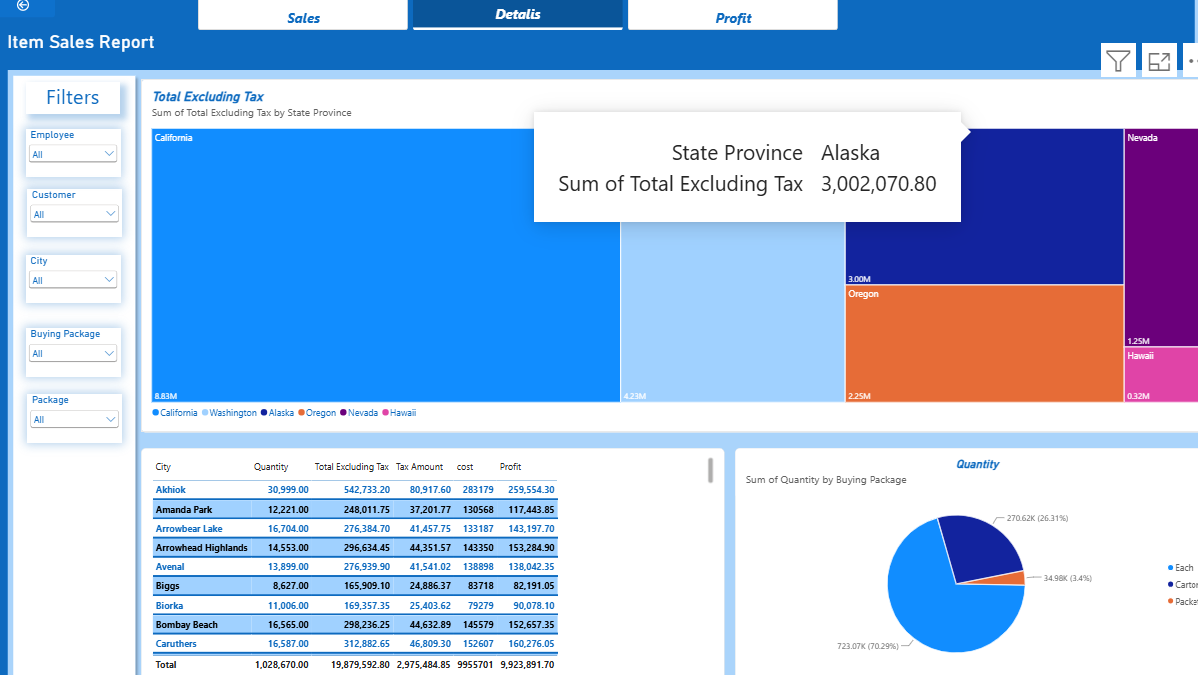

Layout of this report page (visuals, bound fields, positions):
{"tool":"powerbi","page":{"name":"Detalis","canvas":[1920,1080],"ordinal":1},"visuals":[{"type":"shape","box":[0,0,1882.6,121.9],"z":0},{"type":"shape","box":[0,121.9,25.8,958.9],"z":1000},{"type":"shape","box":[25.8,121,208.7,958.9],"z":2000},{"type":"textbox","box":[25.8,61,513.4,39.9],"z":3000},{"type":"textbox","box":[53.9,140.7,147.7,49.2],"z":4000},{"type":"slicer","fields":{"Values":["DimEmployee.Employee"]},"box":[53.2,212.9,148.4,75.8],"z":5000},{"type":"slicer","fields":{"Values":["DimCustomer.Customer"]},"box":[56.5,308.1,148.4,75.8],"z":6000},{"type":"slicer","fields":{"Values":["DimCity.City"]},"box":[53.2,411.3,148.4,75.8],"z":7000},{"type":"slicer","fields":{"Values":["DimStockltm.Buying Package"]},"box":[53.2,524.2,148.4,75.8],"z":8000},{"type":"slicer","fields":{"Values":["FactSale.Package"]},"box":[56.5,629,148.4,75.8],"z":9000},{"type":"pageNavigator","box":[322.8,10.5,1000,50],"z":10000},{"type":"actionButton","box":[0,0,100,40],"z":11000},{"type":"tableEx","fields":{"Values":["DimCity.City","Sum(FactSale.Quantity)","Sum(FactSale.Total Excluding Tax)","Sum(FactSale.Tax Amount)","Sum(FactSale.cost)","Sum(FactSale.Profit)"]},"box":[235.1,712.3,912.3,368.4],"z":12000},{"type":"treemap","title":"Total Excluding Tax","fields":{"Values":["Sum(FactSale.Total Excluding Tax)"],"Group":["DimCity.State Province"]},"box":[235.1,135.1,1684.2,552.6],"z":13000},{"type":"pieChart","title":" Quantity","fields":{"Category":["DimStockltm.Buying Package"],"Y":["Sum(FactSale.Quantity)"]},"box":[1163.2,712.3,756.1,368.4],"z":14000}]}

Visuals, with their boxes on the page's 1920x1080 design canvas (x1, y1, x2, y2). These are canvas units, not pixel positions in the 1198x675 screenshot, which may show the page scaled, cropped or inside an application window:
shape: [0, 0, 1883, 122]
shape: [0, 122, 26, 1081]
shape: [26, 121, 234, 1080]
textbox: [26, 61, 539, 101]
textbox: [54, 141, 202, 190]
slicer - DimEmployee.Employee: [53, 213, 202, 289]
slicer - DimCustomer.Customer: [56, 308, 205, 384]
slicer - DimCity.City: [53, 411, 202, 487]
slicer - DimStockltm.Buying Package: [53, 524, 202, 600]
slicer - FactSale.Package: [56, 629, 205, 705]
pageNavigator: [323, 10, 1323, 60]
actionButton: [0, 0, 100, 40]
tableEx - DimCity.City x Sum(FactSale.Quantity): [235, 712, 1147, 1081]
"Total Excluding Tax" treemap: [235, 135, 1919, 688]
" Quantity" pieChart: [1163, 712, 1919, 1081]
